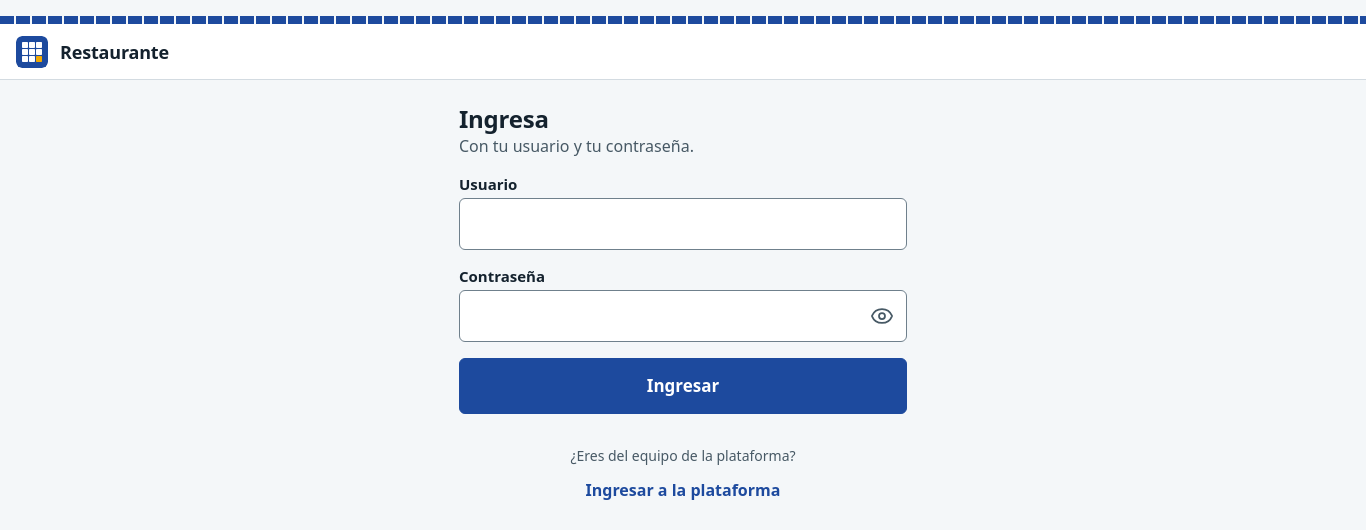
Test case: ingreso con usuario y contraseña › sin conexión conserva lo escrito y lo dice
The width and height of the screenshot is (1366, 530).
(page scrolled)
Type "marta" into the field labelled "Usuario" at (683, 224), box [460,200,906,248]
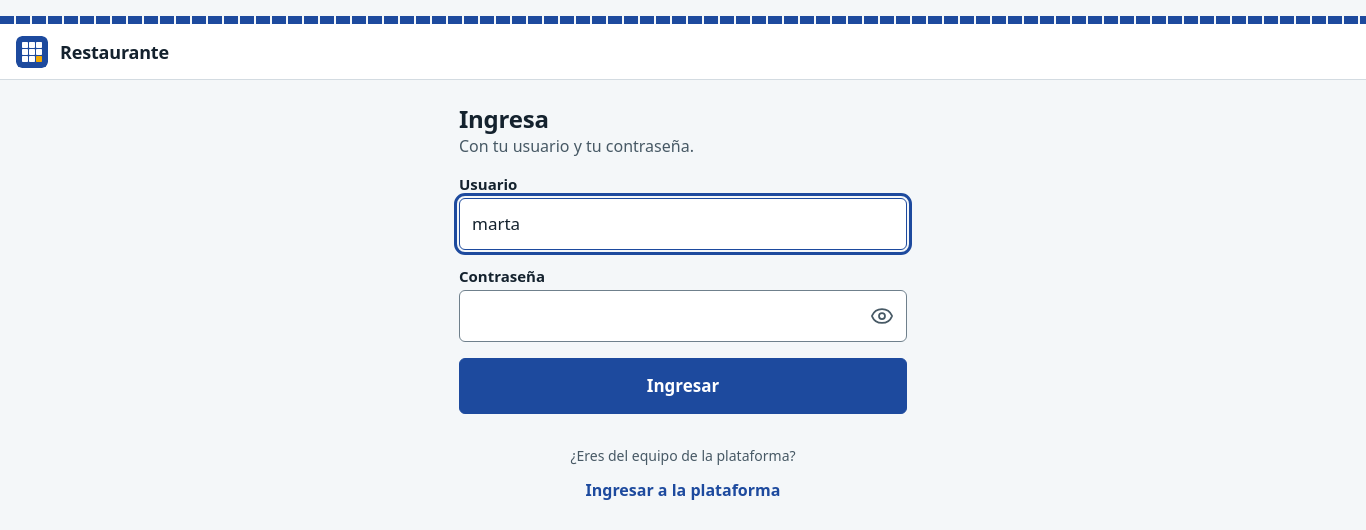
Type "Mi-clave-1" into the password field labelled "Contraseña" at (659, 316), box [460,292,858,340]
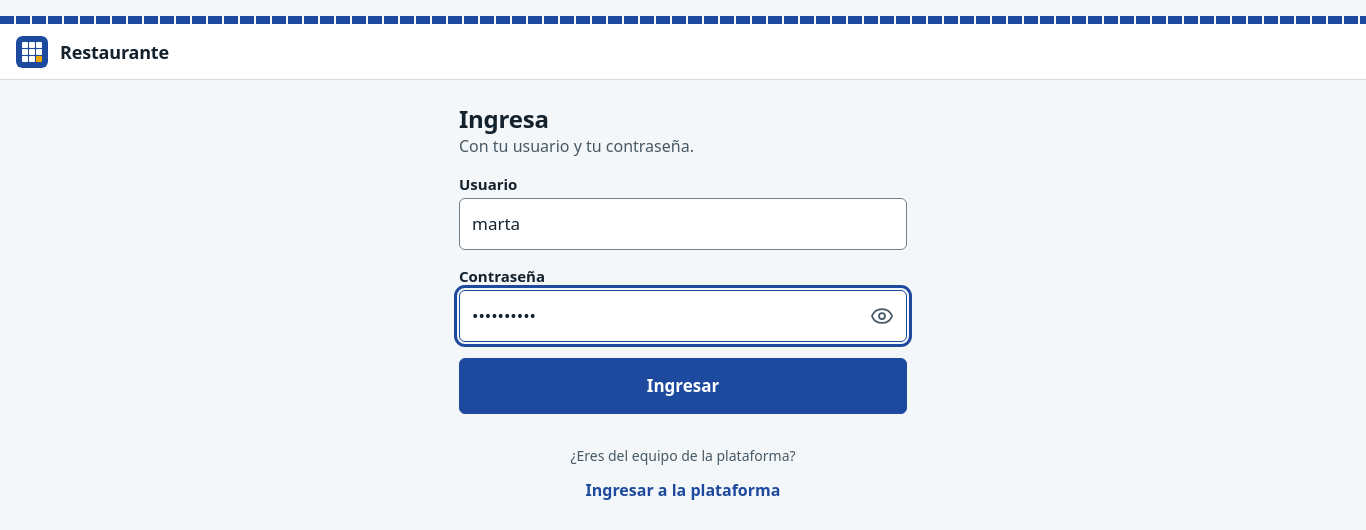
Click the button "Ingresar" at (683, 386), box [459,358,907,414]
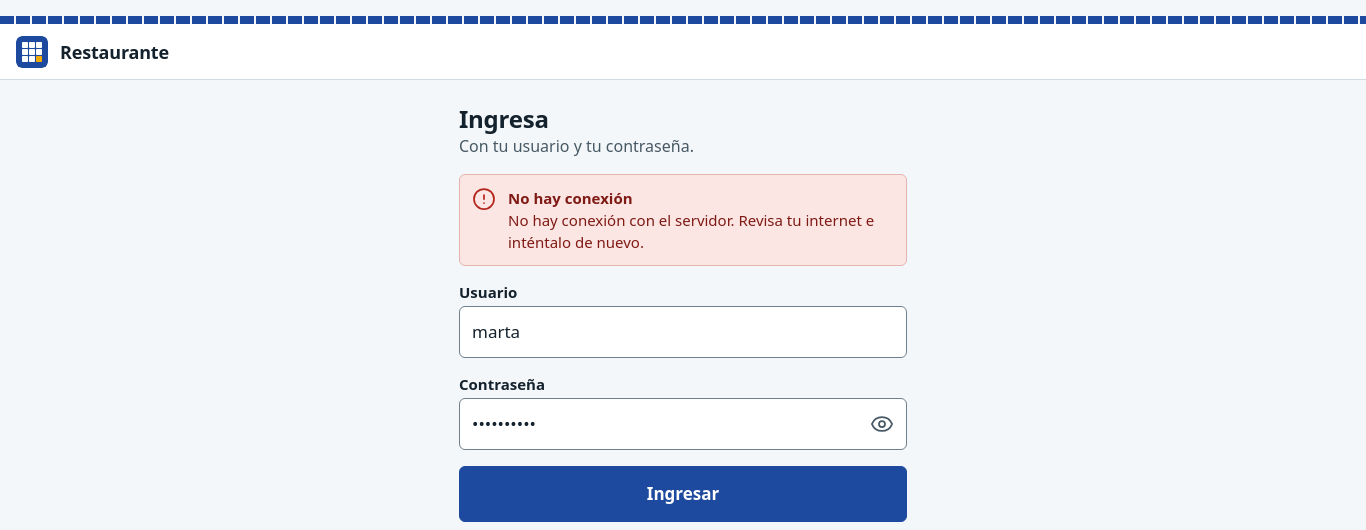
Now the text "No hay conexión" is shown, box [508,188,632,208]
